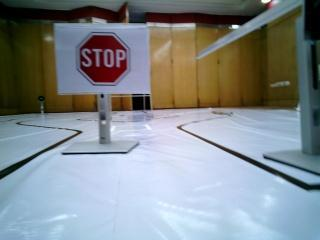stop: (64, 26, 159, 99)
